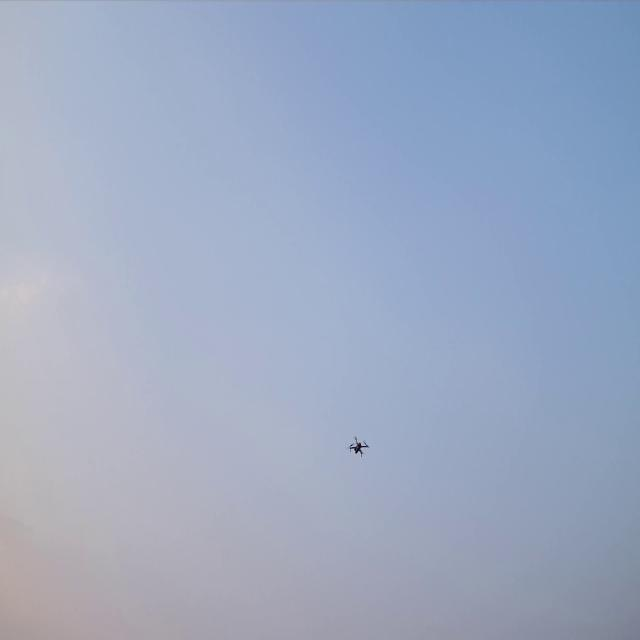UAV: (344, 435, 370, 458)
